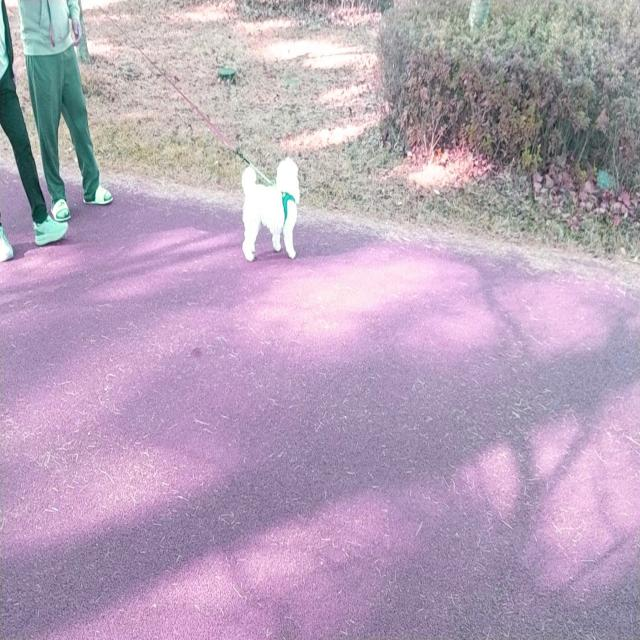Leashed_Dog: (51, 0, 300, 262)
